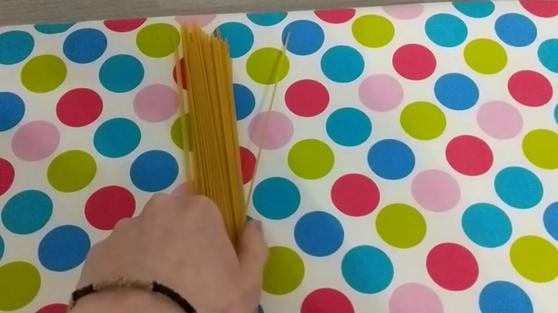spaghetti: (159, 21, 273, 218)
